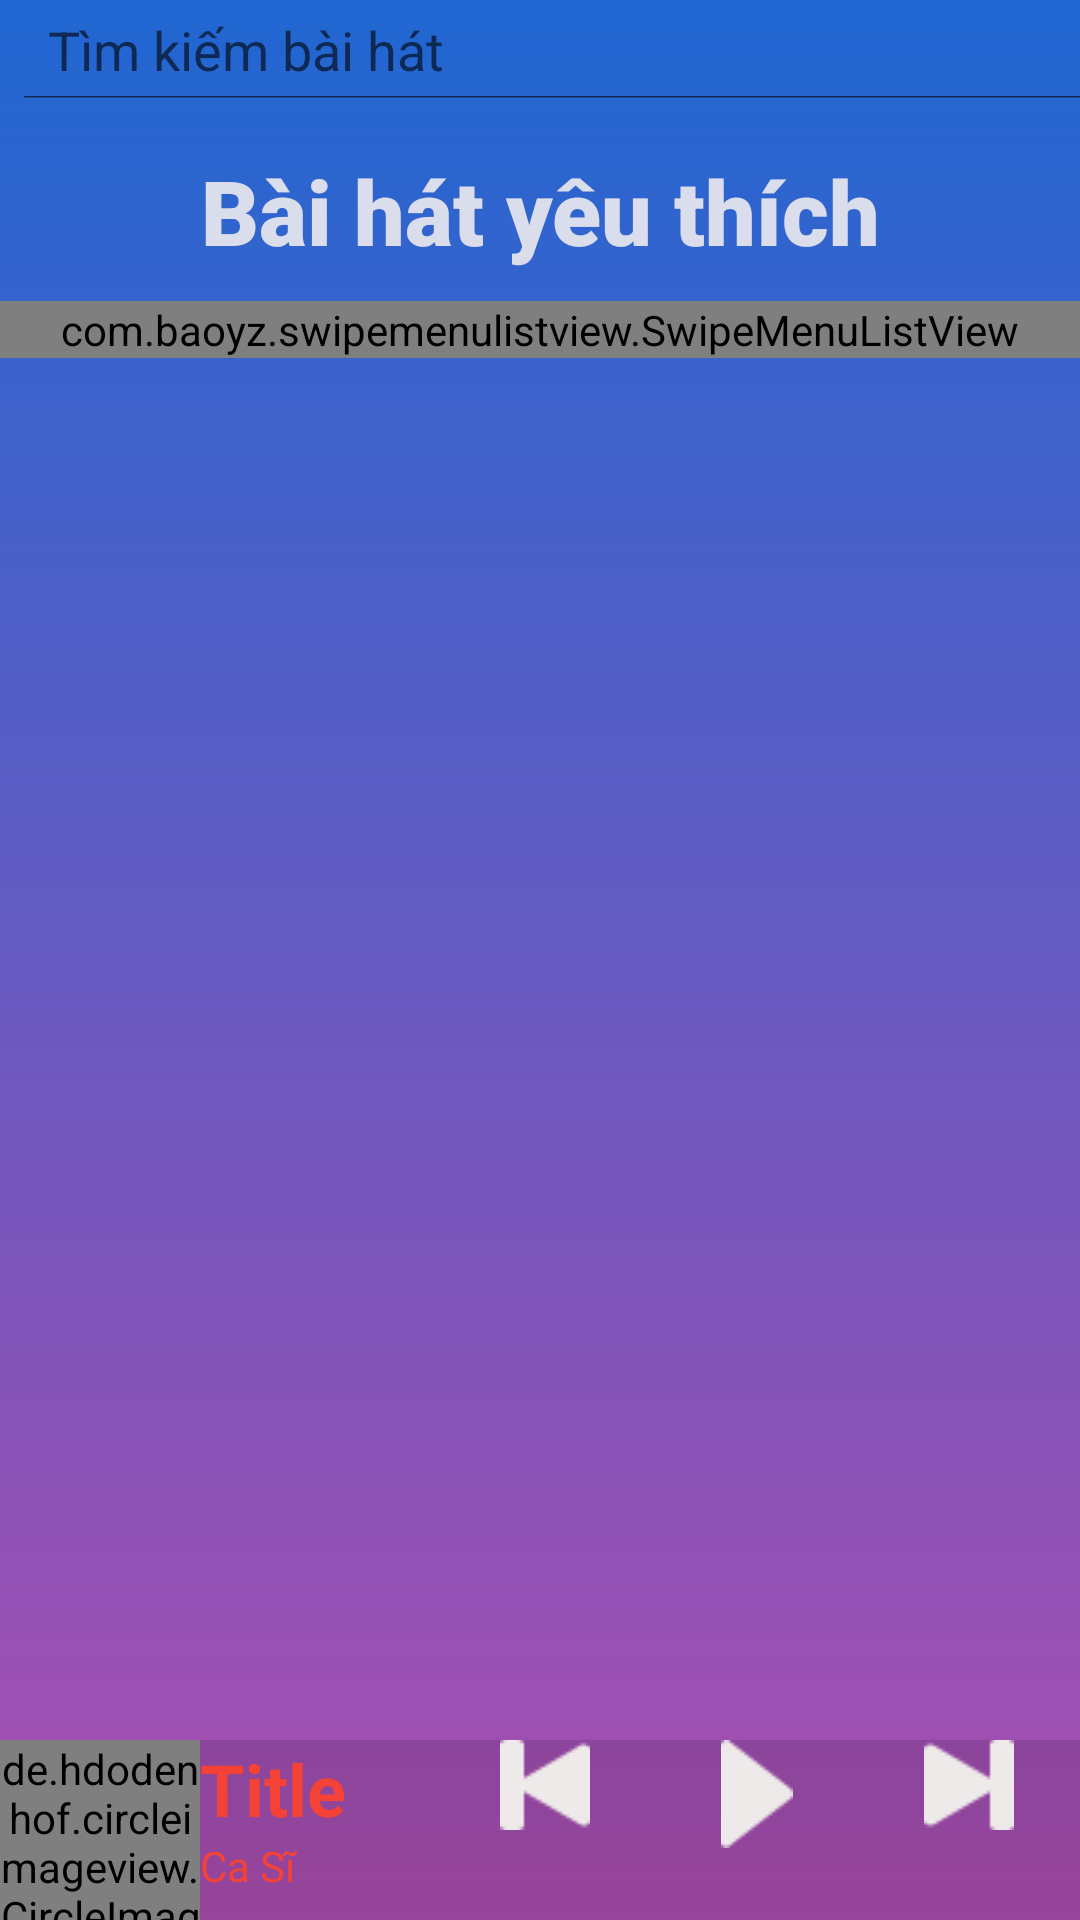

Icons on this 1080x1920 Android screen, each with its box as (x1, y1, x2, y2):
next: (924, 1740, 1014, 1830)
play: (721, 1740, 793, 1848)
pre: (500, 1740, 590, 1830)
